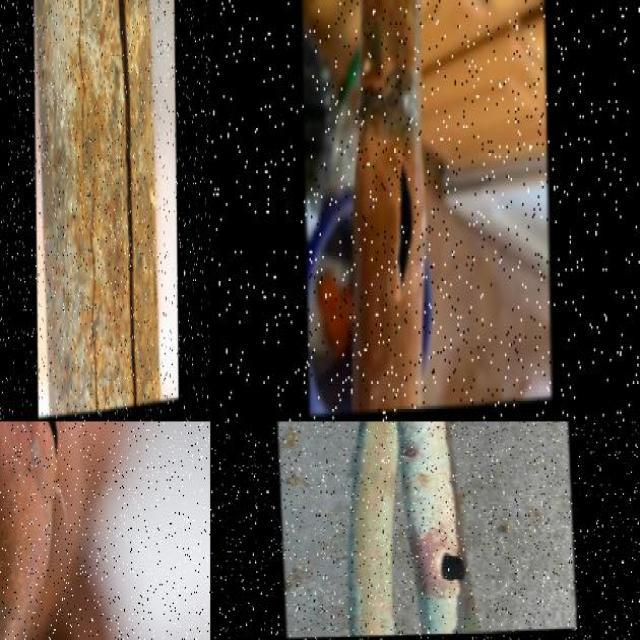crack: (117, 1, 142, 413), (92, 149, 106, 413), (73, 1, 91, 196)
hole: (436, 550, 469, 588)
rupture: (387, 152, 420, 307), (34, 420, 61, 481)
